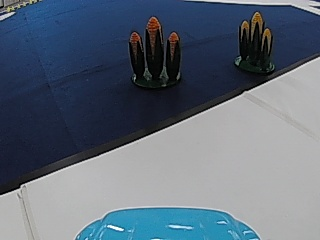corn: (126, 14, 184, 88), (234, 9, 276, 73)
